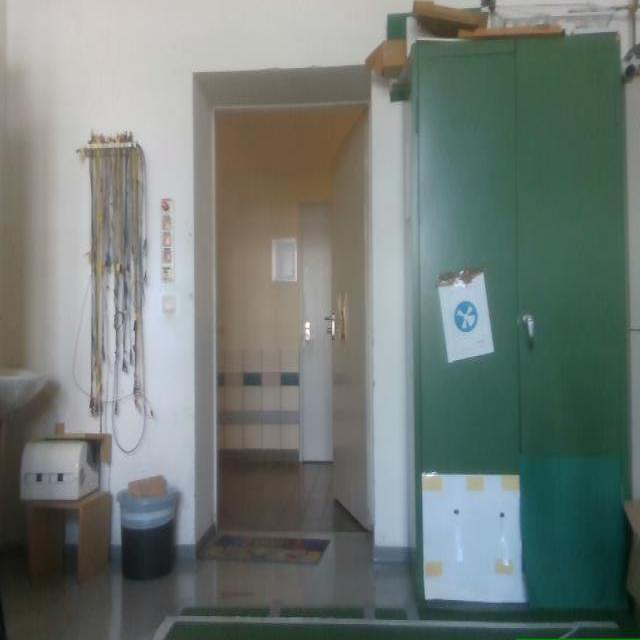objects: (0, 595, 6, 639)
